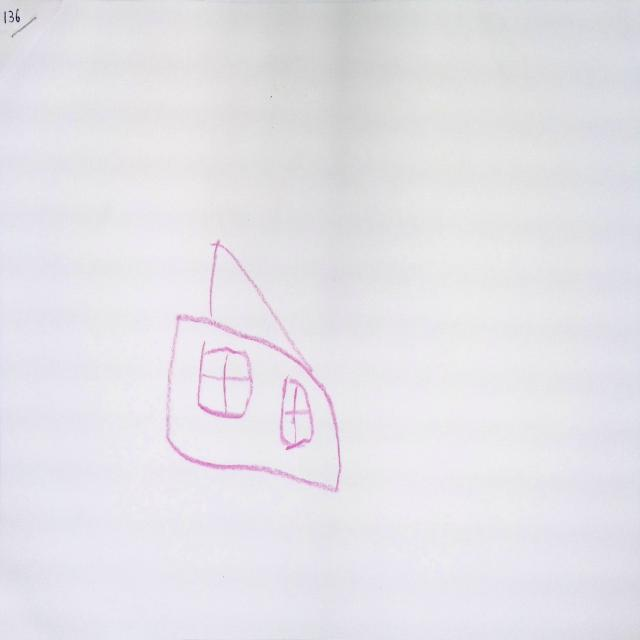house: (168, 241, 342, 492)
roof: (211, 237, 316, 375)
wall: (166, 314, 343, 491)
window: (196, 347, 254, 416), (279, 378, 315, 447)
